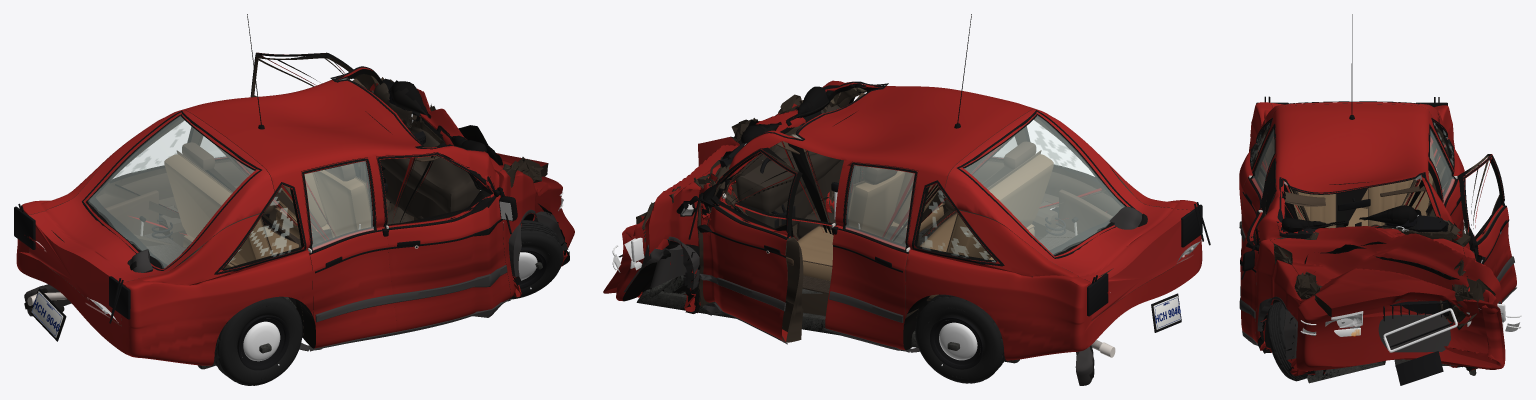
The model's file is hatchback85_front_d3.glb.
3 views of the same model, side by side, from view 1: azimuth 30°, elevation 25°; view 2: azimuth 150°, elevation 25°; view 3: azimuth 270°, elevation 25° (orthographic). The views are drawn at different scales.
Parts seen in each view (by area): view 1: Body, Interior, Glass_Hatch, Hatch, Door_FR, Door_RR, Wheel_RR_mesh, Glass_RR, Trim_FR, Trim, Ends, Wheel_FR_mesh (+7 smaller); view 2: Body, Interior, Hatch, Glass_Hatch, Door_FL, Door_RL, Wheel_RL_mesh, Glass_RL, Trim, Ends, Trim_FL, Underbody (+6 smaller); view 3: Body, Hood, Interior, Ends, Door_FL, Trim, Engine, Glass, Door_FR, Wheel_FR_mesh, Door_RR, Trim_FL (+8 smaller).
Part boxes in pixels (x1,y1,x2,y2): Body: (16, 67, 574, 365); Interior: (105, 78, 480, 268); Glass_Hatch: (82, 111, 261, 270); Hatch: (29, 109, 274, 325); Door_FR: (376, 152, 510, 331); Door_RR: (300, 157, 396, 348); Wheel_RR_mesh: (214, 296, 302, 385); Glass_RR: (301, 161, 376, 250); Trim_FR: (377, 152, 517, 334); Trim: (214, 14, 568, 351); Ends: (14, 191, 563, 341); Wheel_FR_mesh: (503, 220, 563, 299); Body: (603, 80, 1202, 360); Interior: (735, 92, 1112, 298); Hatch: (944, 109, 1191, 320); Glass_Hatch: (957, 110, 1134, 258); Door_FL: (697, 147, 803, 342); Door_RL: (825, 162, 918, 350); Wheel_RL_mesh: (915, 294, 1004, 383); Glass_RL: (842, 164, 917, 250); Trim: (624, 14, 1004, 352); Ends: (612, 202, 1210, 332); Trim_FL: (676, 149, 796, 344); Underbody: (636, 217, 1115, 363); Body: (1239, 102, 1505, 376); Hood: (1270, 226, 1479, 317); Interior: (1268, 145, 1437, 231); Ends: (1256, 96, 1521, 385); Door_FL: (1457, 154, 1516, 300); Trim: (1249, 14, 1501, 359); Engine: (1378, 307, 1450, 352); Glass: (1251, 120, 1453, 239); Door_FR: (1240, 157, 1276, 343); Wheel_FR_mesh: (1266, 301, 1307, 381); Door_RR: (1241, 123, 1275, 246); Trim_FL: (1463, 155, 1516, 302).
Bounding box in the file's own units: 3.56 × 2.15 × 2.06.
Materials: 33 (5 with a texture image).
